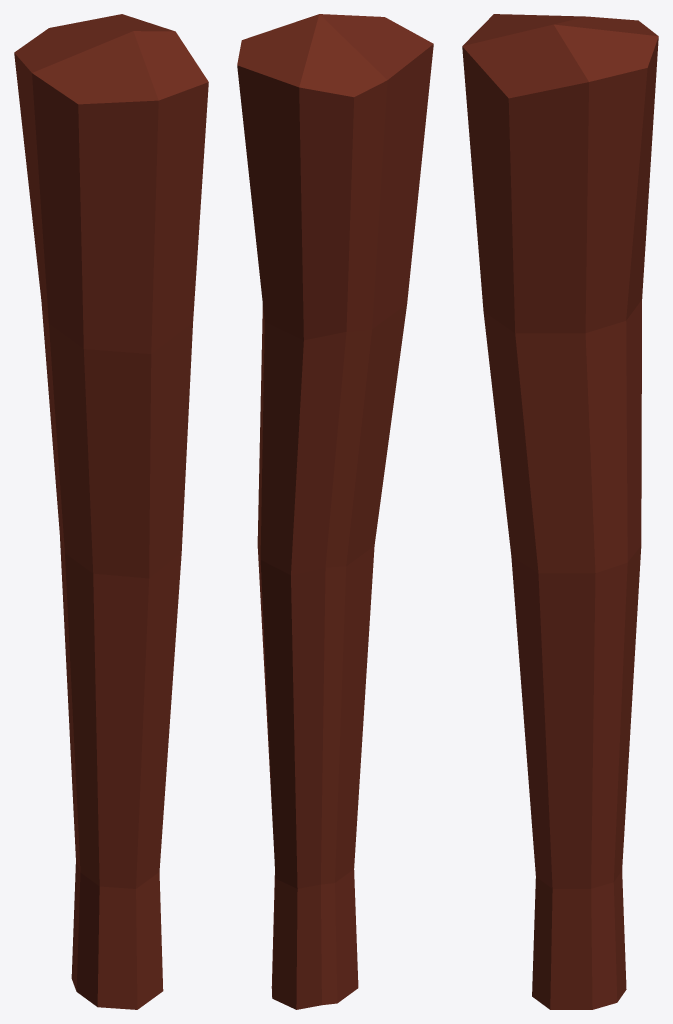
Rendered from stick.fbx.
3 renders of one model, left to right at view 1: azimuth 30°, elevation 25°; view 2: azimuth 150°, elevation 25°; view 3: azimuth 270°, elevation 25°, orthographic.
Parts seen in each view (by area): view 1: Cube; view 2: Cube; view 3: Cube.
Part boxes in pixels (left/top/right/bottom): Cube: left=14, top=14, right=208, bottom=1009; Cube: left=237, top=14, right=433, bottom=1009; Cube: left=462, top=14, right=658, bottom=1009.
Bounding box in the file's own units: 88.48 × 566 × 103.
